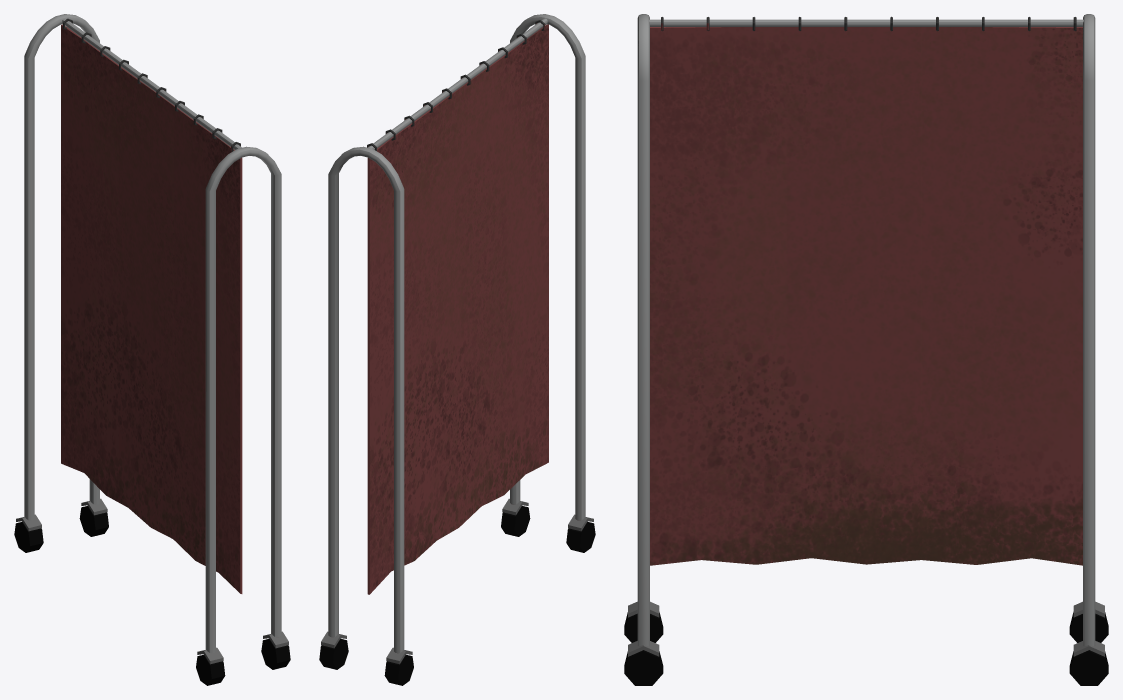
File: Prop_Curtains_Trolly.fbx
3 renders of one model, left to right at view 1: azimuth 30°, elevation 25°; view 2: azimuth 150°, elevation 25°; view 3: azimuth 270°, elevation 25°, orthographic. The views are drawn at different scales.
Visible parts, largest first — view 1: Cube.018; view 2: Cube.018; view 3: Cube.018.
Boxes of the visible parts, left/top/right/bottom form: Cube.018: left=14, top=14, right=290, bottom=685; Cube.018: left=319, top=14, right=595, bottom=685; Cube.018: left=624, top=14, right=1108, bottom=685.
Size of the model in its own units: 26.46 by 169 by 115.
